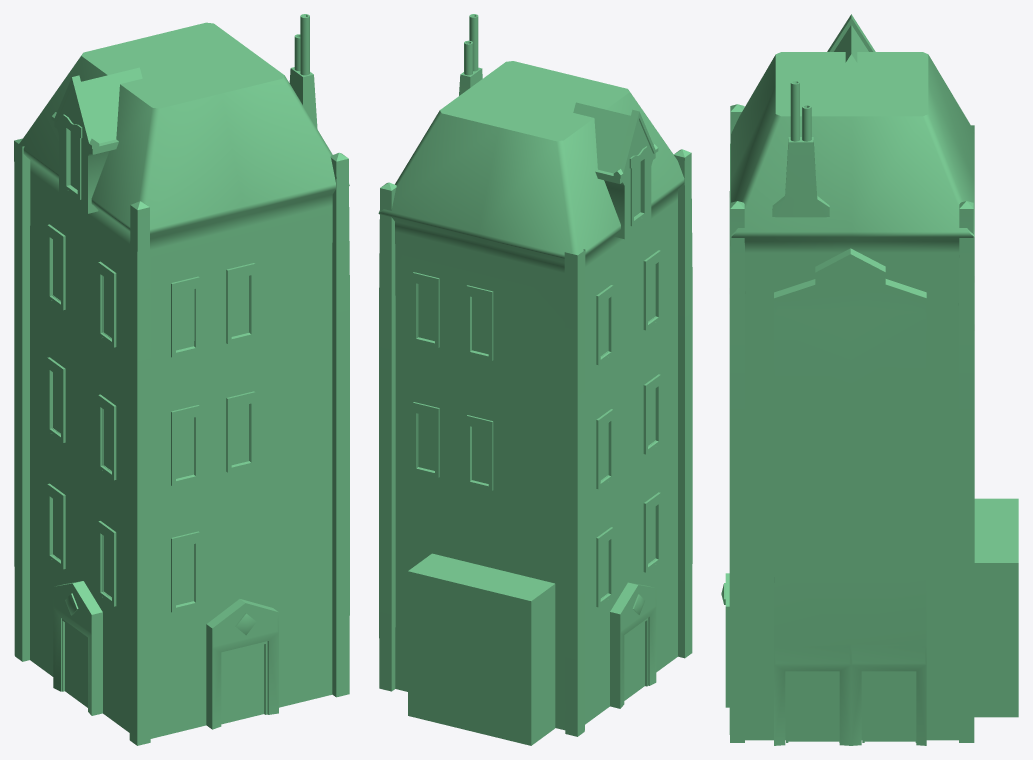
Rendered from Bgr_Building14.fbx.
The picture shows the model from 3 angles, left to right: view 1: azimuth 30°, elevation 25°; view 2: azimuth 150°, elevation 25°; view 3: azimuth 270°, elevation 25°; orthographic projection. The views are drawn at different scales.
Visible parts, largest first — view 1: Bgr_Building14; view 2: Bgr_Building14; view 3: Bgr_Building14.
Boxes of the visible parts, left/top/right/bottom form: Bgr_Building14: left=14, top=14, right=349, bottom=745; Bgr_Building14: left=378, top=14, right=692, bottom=745; Bgr_Building14: left=721, top=14, right=1018, bottom=745.
Size of the model in its own units: 1022 by 2840 by 1168.
